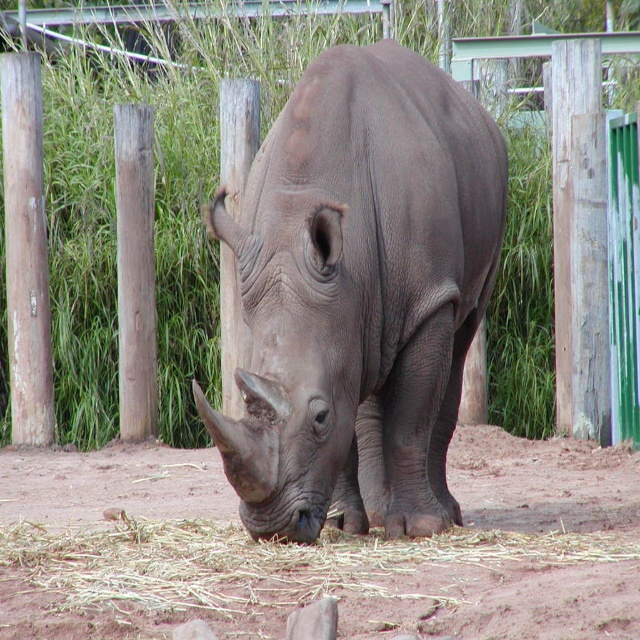Rhinoceros: (194, 11, 504, 550)
